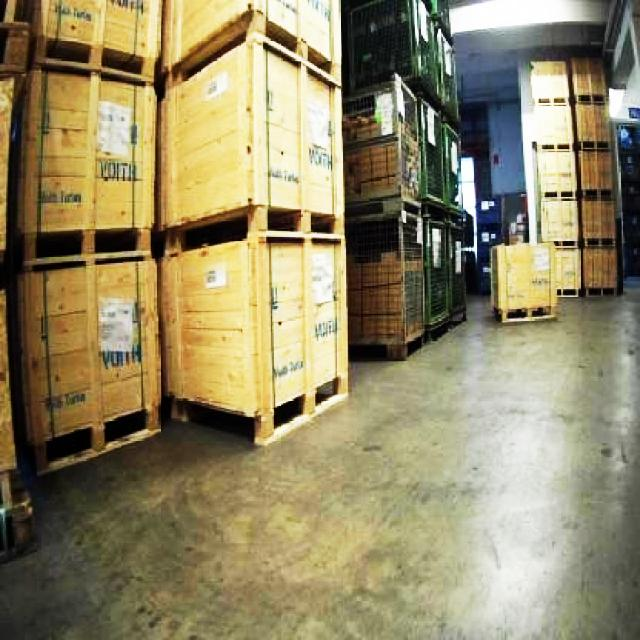ground: (0, 275, 638, 638)
pallet: (155, 0, 349, 445), (340, 0, 469, 360), (528, 52, 622, 297), (0, 3, 31, 572), (488, 240, 558, 322), (612, 112, 638, 277)
